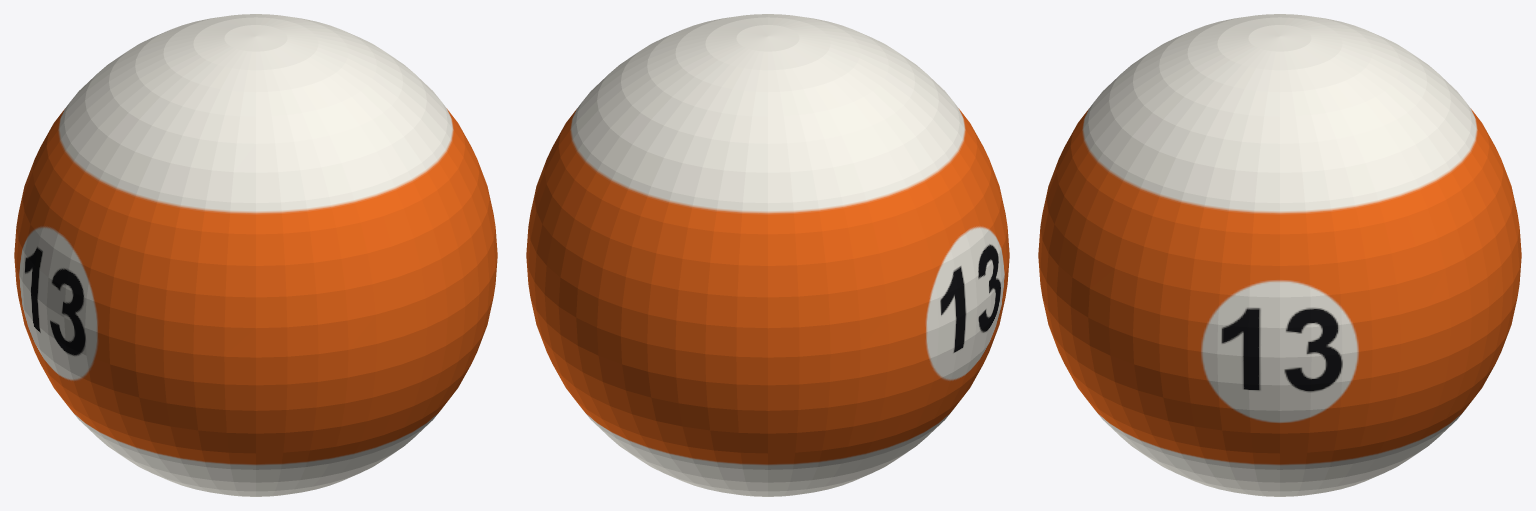
File: ball_13.obj
3 views of the same model, side by side, from view 1: azimuth 30°, elevation 25°; view 2: azimuth 150°, elevation 25°; view 3: azimuth 270°, elevation 25° (orthographic).
Size of the model in its own units: 0.0571 by 0.0571 by 0.0571.
1 material, 1 textured.
